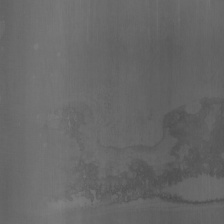water_spot: (71, 127, 224, 215), (164, 92, 221, 138)
